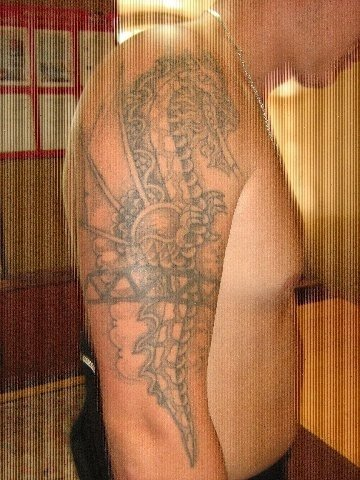tatu3_bukva: (68, 41, 242, 468)
